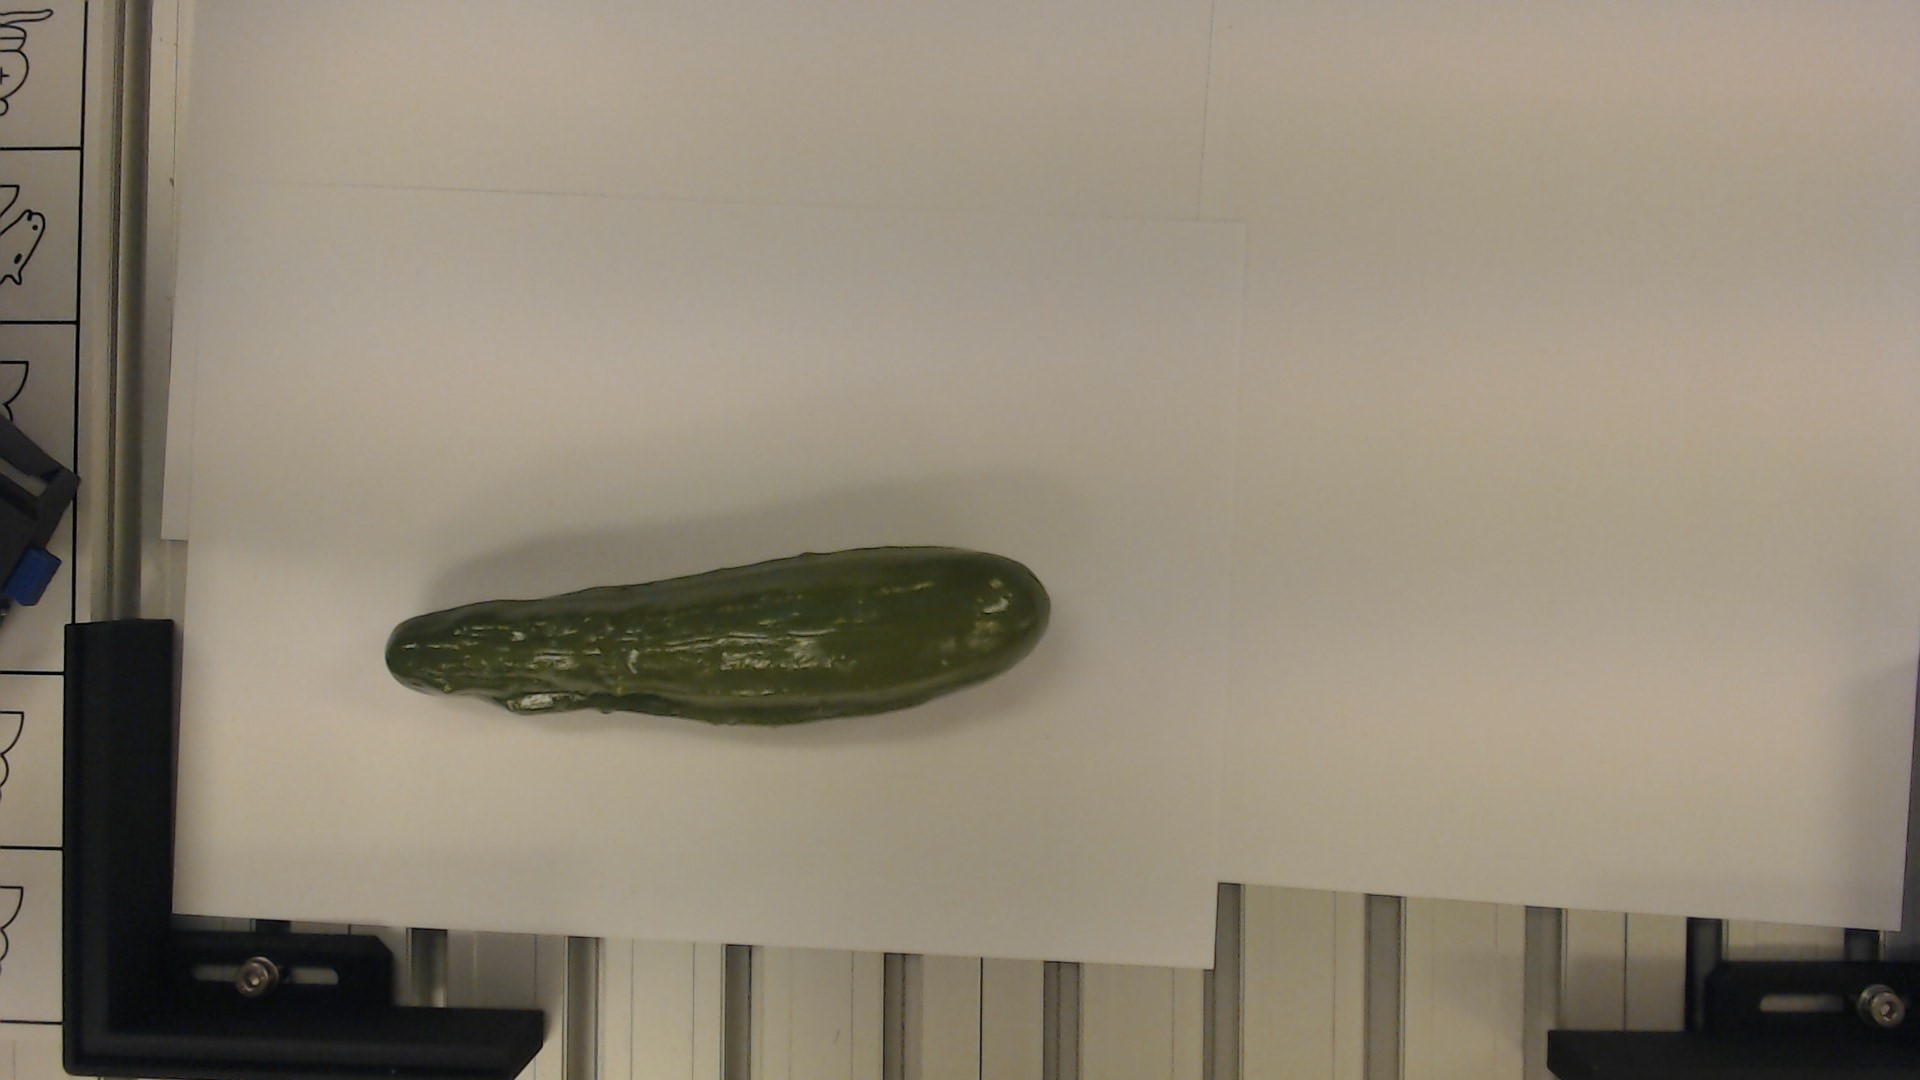Cucumber: (384, 545, 1052, 729)
